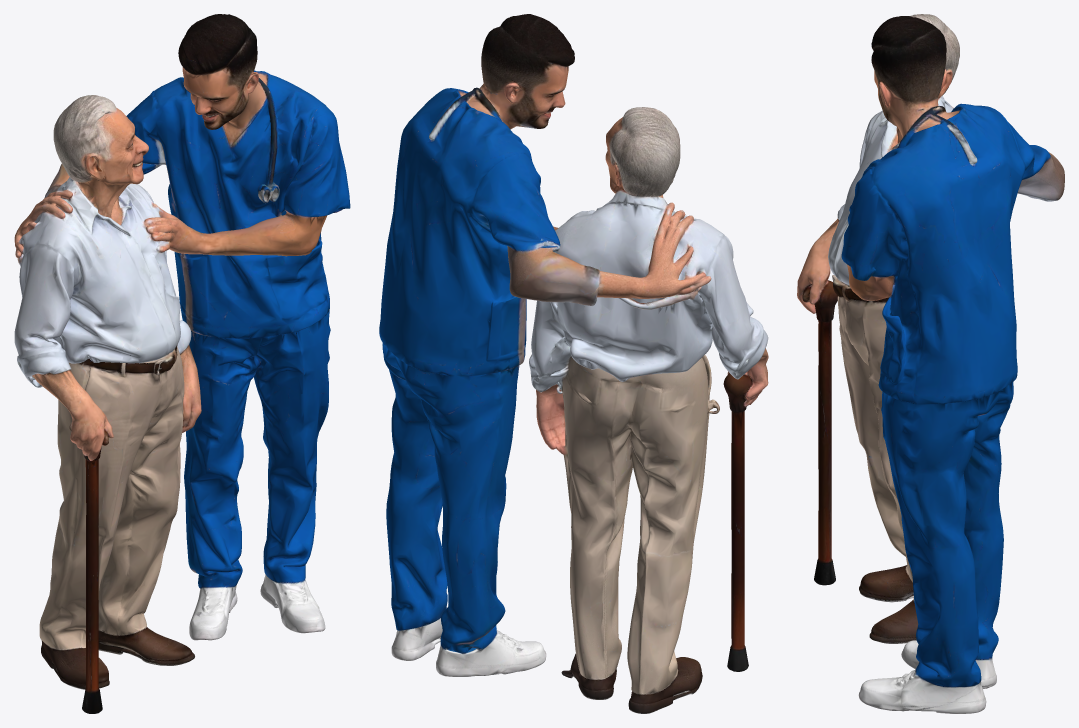
The model's file is model-mid.glb.
The picture shows the model from 3 angles, left to right: view 1: azimuth 30°, elevation 25°; view 2: azimuth 150°, elevation 25°; view 3: azimuth 270°, elevation 25°; orthographic projection. The views are drawn at different scales.
Bounding box in the file's own units: 1.06 × 1.91 × 0.7154.
1 material, 1 textured.
